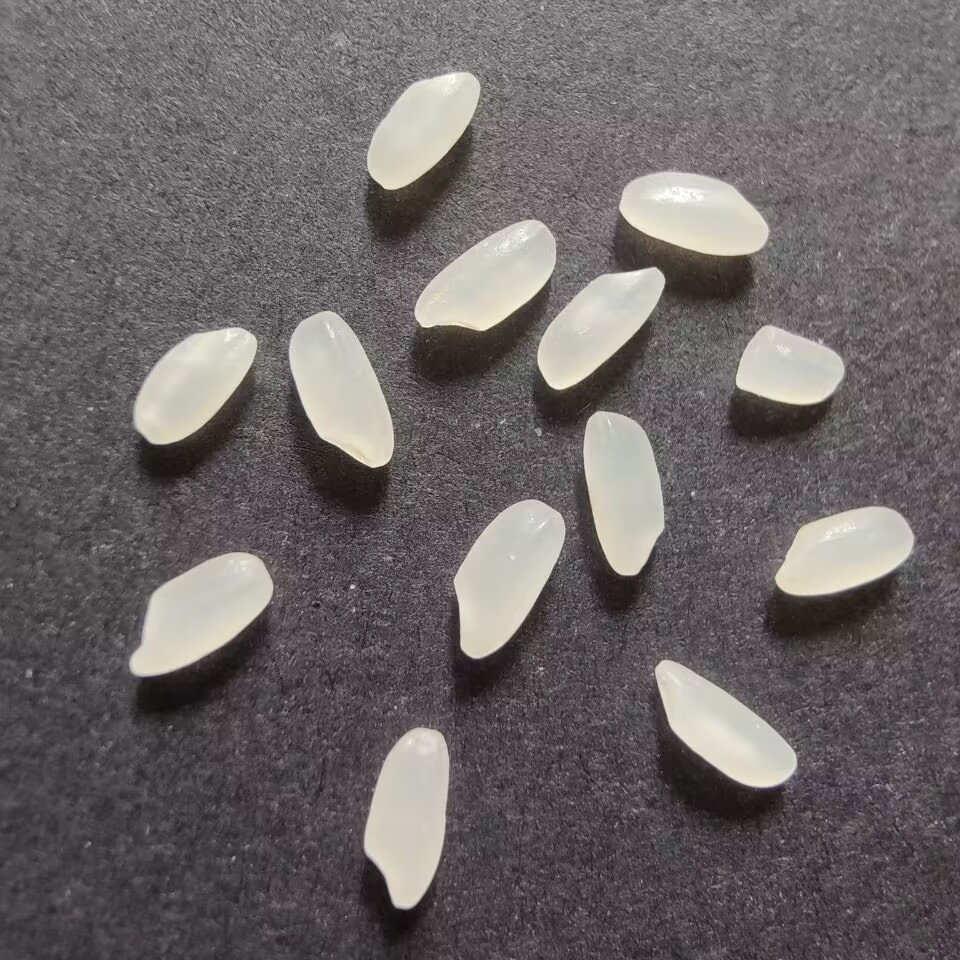broken: (732, 317, 850, 410)
rice: (118, 544, 278, 684), (648, 656, 803, 794), (448, 496, 570, 663), (409, 214, 563, 337), (282, 306, 397, 470), (359, 718, 454, 916), (534, 263, 670, 395), (128, 322, 259, 449), (361, 64, 487, 196), (579, 401, 670, 582), (769, 500, 919, 600), (613, 169, 776, 258)
